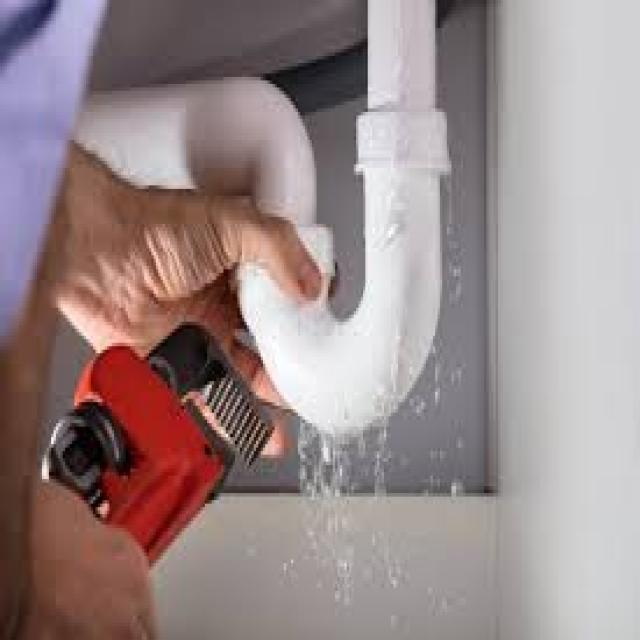corrosion: (314, 113, 458, 387)
